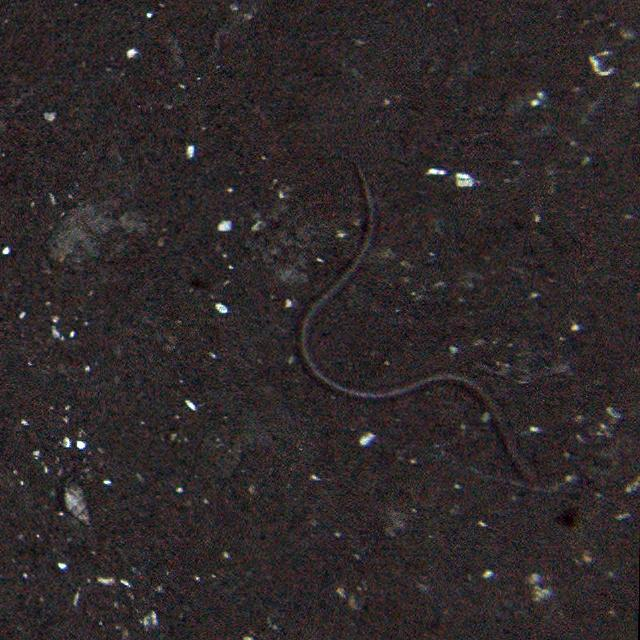eel: (298, 162, 551, 490)
